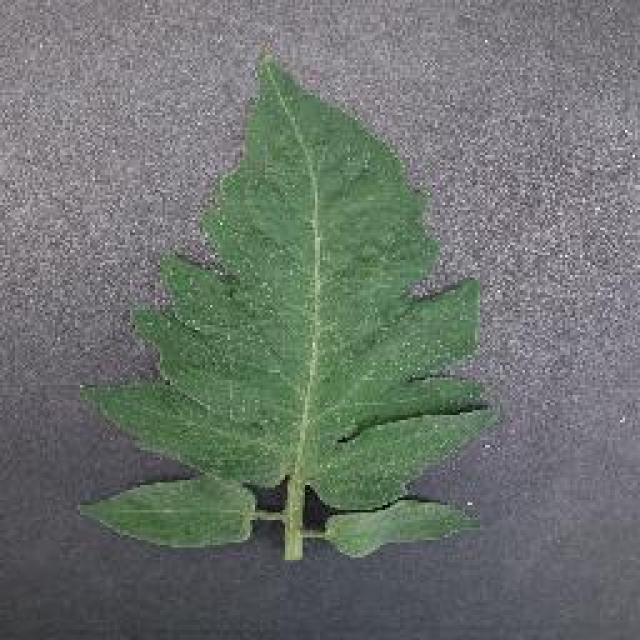Tomato healthy leaf: (102, 67, 482, 555)
